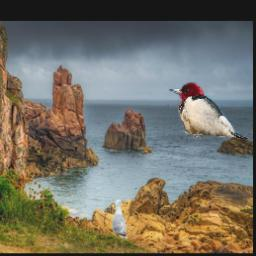Woodpecker: (168, 83, 249, 140)
